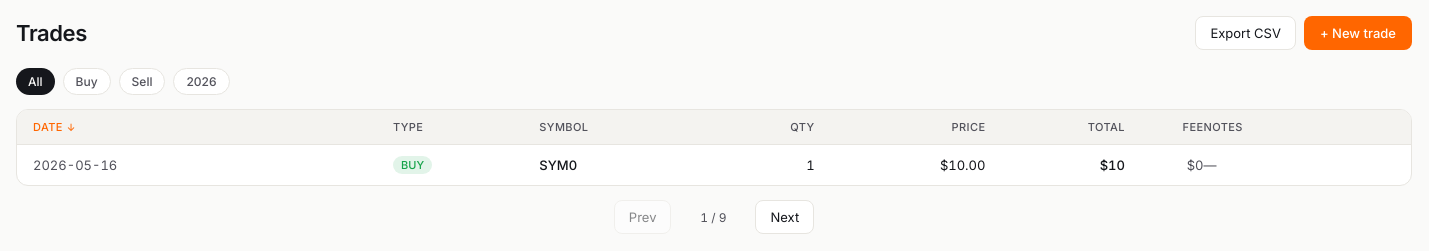
Scenario: Trades — API mode 參數轉換與分頁(D-05 / D-06 / D-07 / D-08) › 請求頁碼 ≥ totalPages 且回空時,自動以 totalPages-1 重新請求並渲染(D-15 溢出回退)
Click the button "Next" at point(785, 217), box [756, 200, 814, 234]
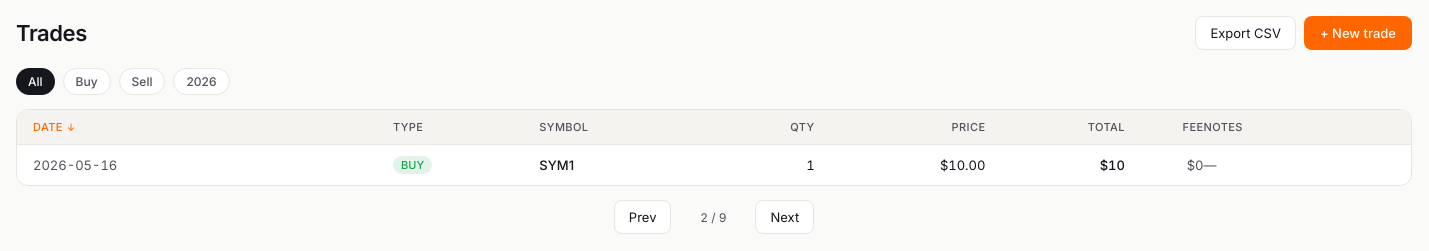
Click the button "Next" at point(785, 217), box [756, 200, 814, 234]
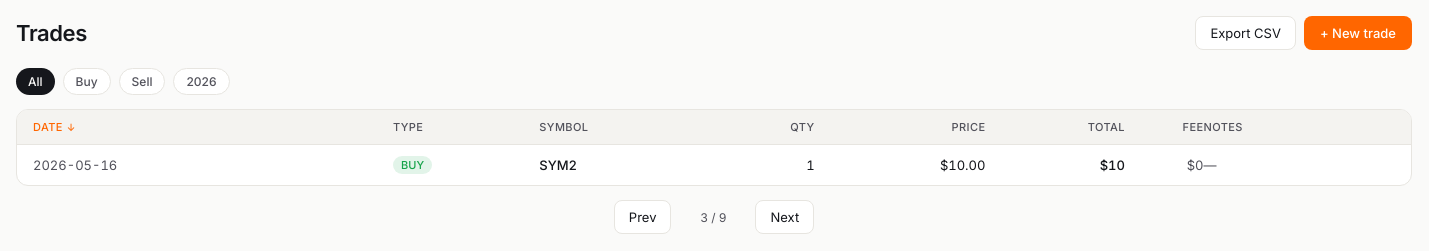
Click the button "Next" at point(785, 217), box [756, 200, 814, 234]
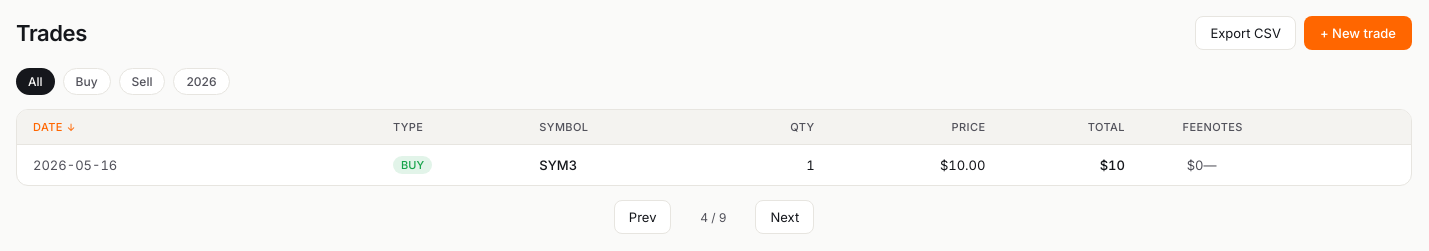
Click the button "Next" at point(785, 217), box [756, 200, 814, 234]
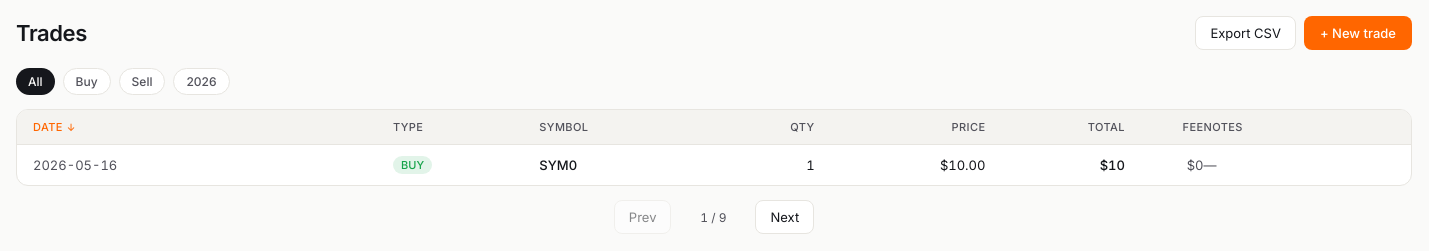
expect the text "1 / 9" is shown: met, box [700, 210, 727, 224]
